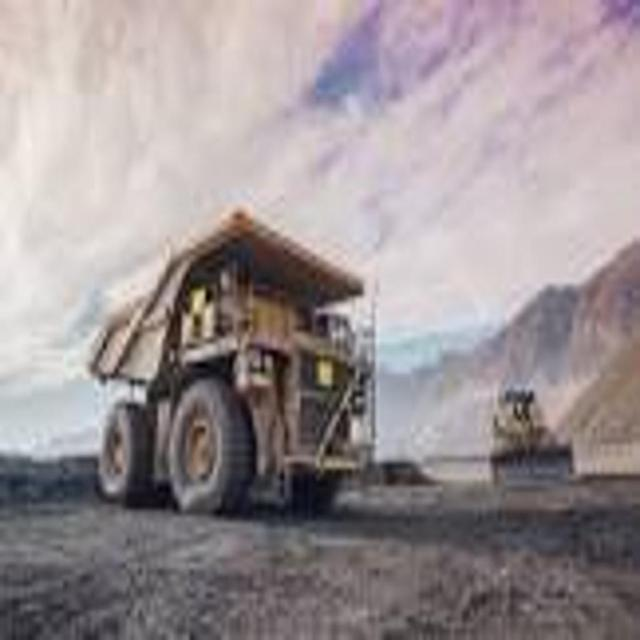dump_truck: (86, 189, 386, 530)
